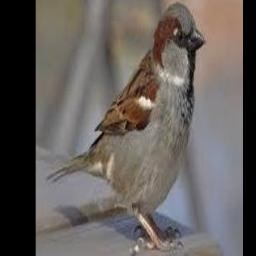Sparrow: (47, 1, 207, 250)
